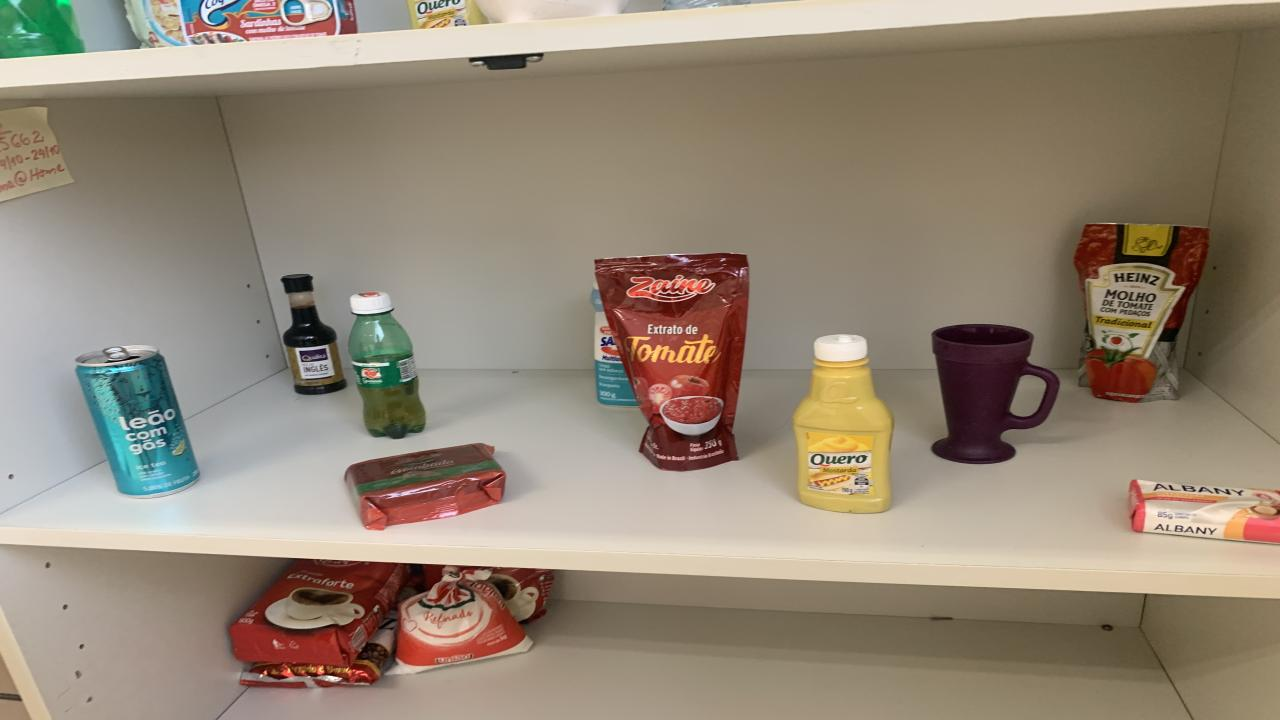Cleaner-Cleanup_Items: (592, 287, 638, 407)
English_Sauce-Pantry_Items: (282, 274, 348, 394)
Flakes-Snacks: (125, 0, 188, 47)
Guarana-Drinks: (348, 292, 425, 437)
Guava-Snacks: (345, 442, 505, 531)
Mustard-Pantry_Items: (792, 334, 892, 514), (408, 0, 488, 28)
Pig_Safe-Miscellaneous: (475, 0, 628, 22)
Soap-Cleanup_Items: (1130, 480, 1280, 544)
Tea-Drinks: (75, 345, 200, 497)
Tomato_Sauce-Pantry_Items: (595, 253, 748, 471), (1075, 223, 1210, 403)
Tuna_Can-Pantry_Items: (180, 0, 358, 43)
Water_Bottle-Drinks: (662, 0, 750, 11)
